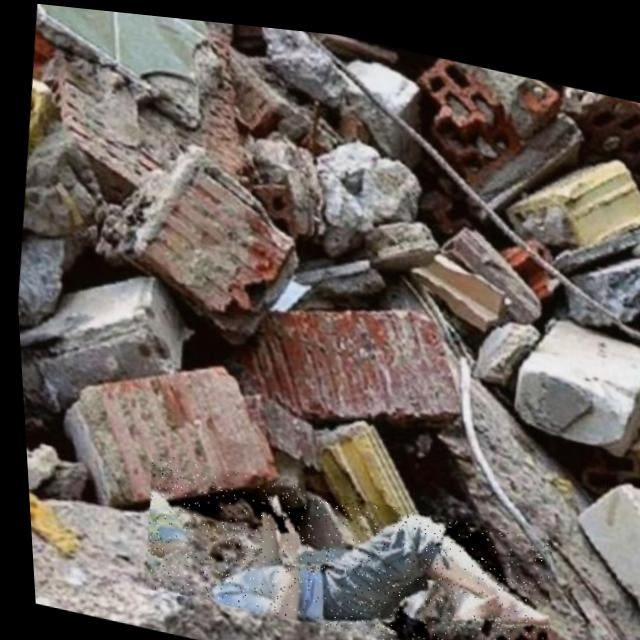Person in Rubble: (130, 448, 553, 640)
